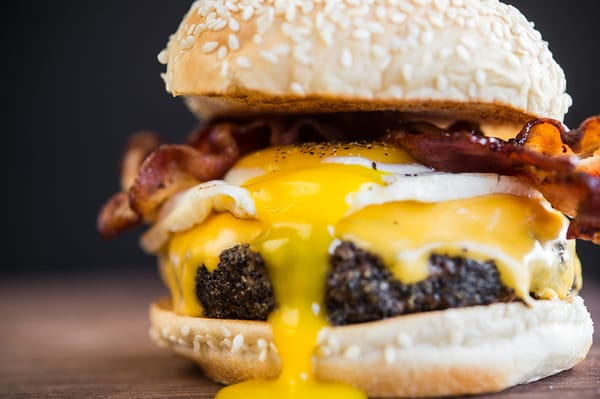soup: (96, 1, 595, 392)
